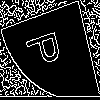P: (25, 25, 68, 71)
